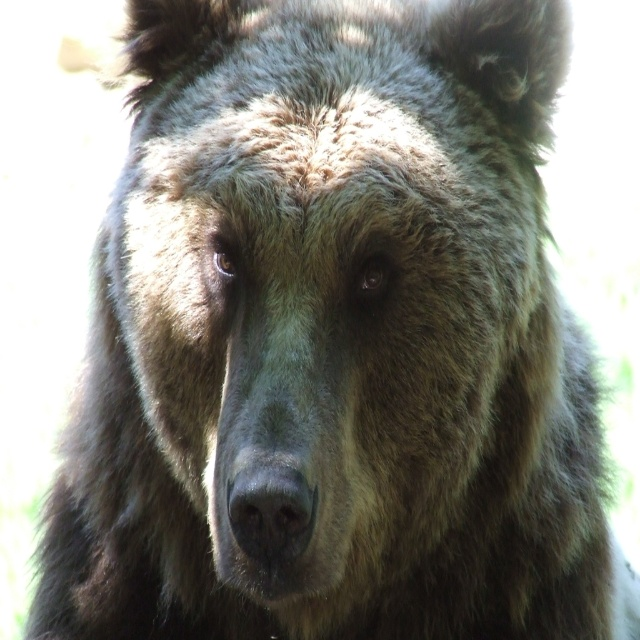Brown bear: (23, 0, 640, 640)
